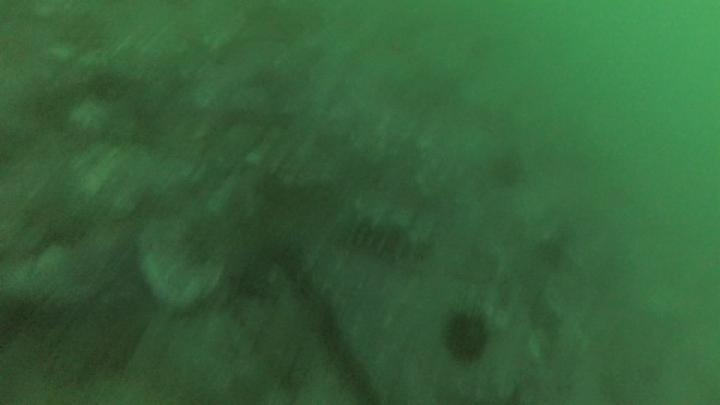echinus: (440, 306, 493, 365), (486, 151, 526, 189), (530, 235, 568, 270)
holothurian: (336, 210, 433, 266)
